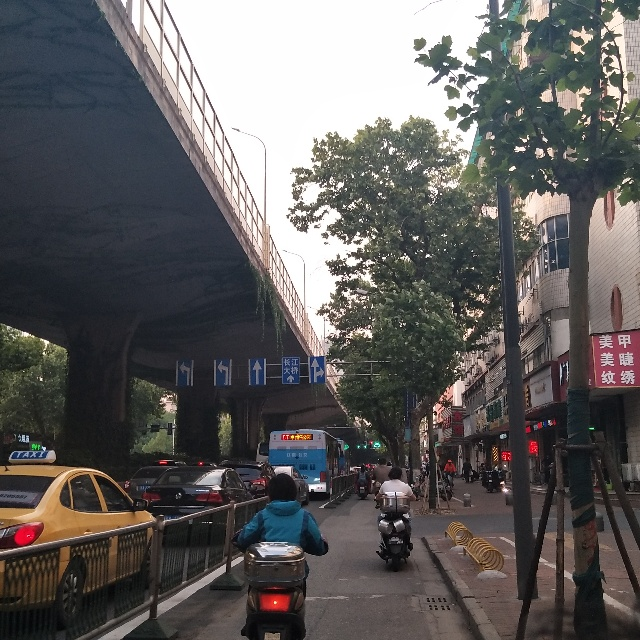left: (171, 357, 194, 390), (213, 357, 232, 390)
straight: (247, 355, 270, 389)
